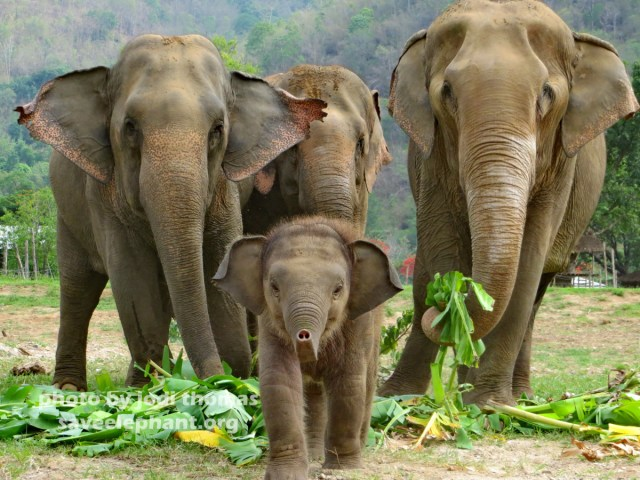elephant: (9, 27, 323, 417), (379, 2, 640, 423), (232, 48, 406, 378), (211, 211, 406, 480)
